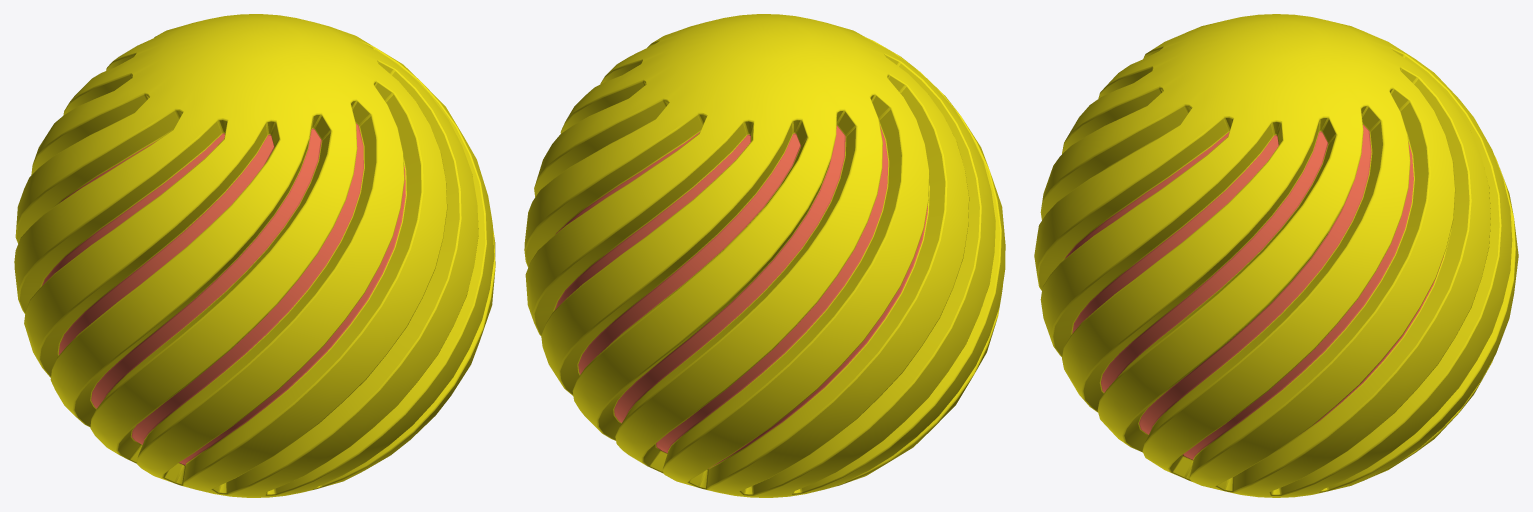
File: FlameArtifact.fbx
3 renders of one model, left to right at view 1: azimuth 30°, elevation 25°; view 2: azimuth 150°, elevation 25°; view 3: azimuth 270°, elevation 25°, orthographic.
Parts seen in each view (by area): view 1: Sphere; view 2: Sphere; view 3: Sphere.
Boxes of the visible parts, x1,y1,x2,y2 form: Sphere: (14,14,495,497); Sphere: (524,14,1005,497); Sphere: (1034,14,1518,497).
Bounding box in the file's own units: 200 × 200 × 200.
